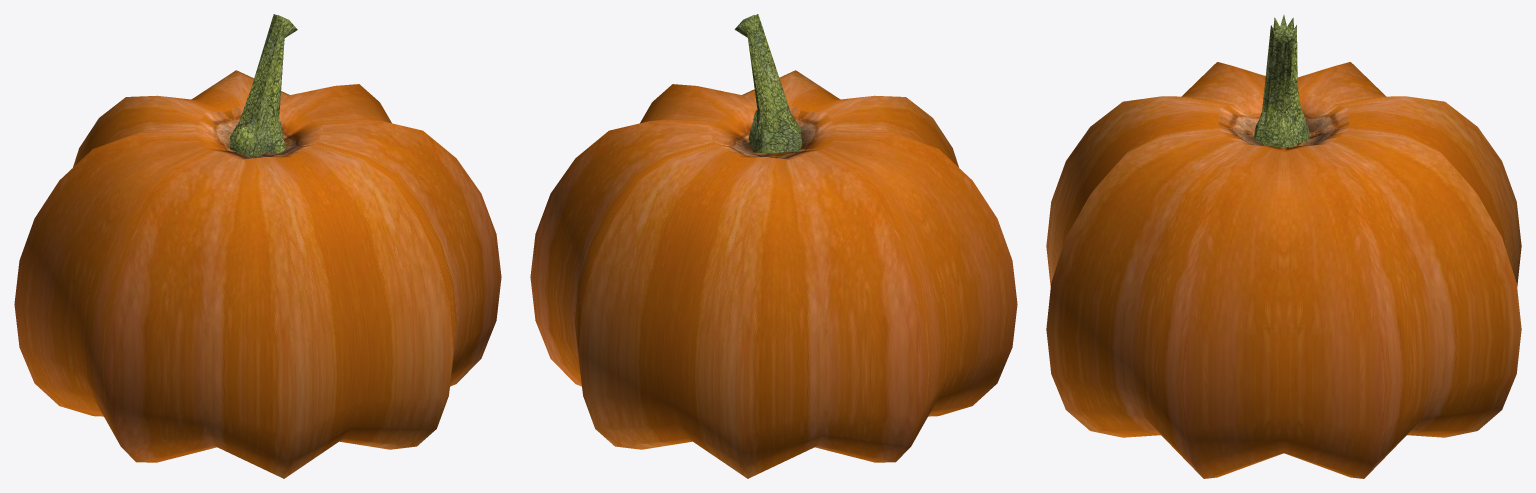
Rendered from Pumpkin.glb.
3 views of the same model, side by side, from view 1: azimuth 30°, elevation 25°; view 2: azimuth 150°, elevation 25°; view 3: azimuth 270°, elevation 25° (orthographic). The views are drawn at different scales.
Visible parts, largest first — view 1: Sphere, Sphere.001; view 2: Sphere, Sphere.001; view 3: Sphere, Sphere.001.
Part boxes in pixels (x1=…): Sphere: x1=14, y1=70, x2=501, y2=478; Sphere.001: x1=230, y1=14, x2=297, y2=157; Sphere: x1=530, y1=70, x2=1017, y2=478; Sphere.001: x1=734, y1=14, x2=801, y2=153; Sphere: x1=1046, y1=62, x2=1521, y2=478; Sphere.001: x1=1254, y1=15, x2=1309, y2=147.
Bounding box in the file's own units: 3.18 × 3 × 3.18.
Materials: 2 (2 with a texture image).
